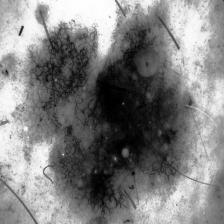Benign Marking or Mole: (32, 37, 194, 208)
